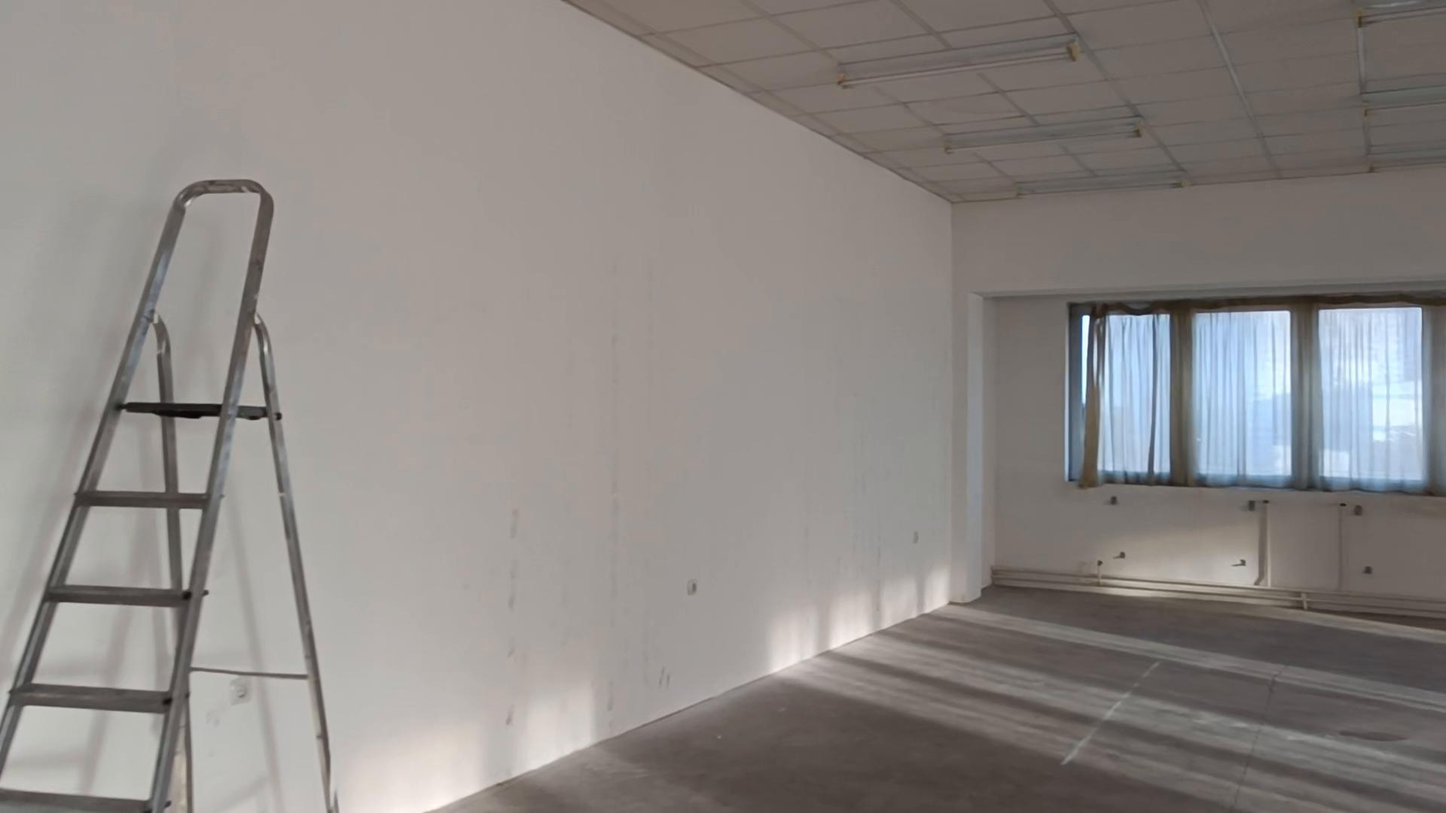ceiling: (568, 0, 1445, 202)
floor: (441, 588, 1445, 812)
wall: (0, 0, 1445, 812), (195, 421, 301, 671), (160, 202, 253, 400), (191, 674, 317, 812)
